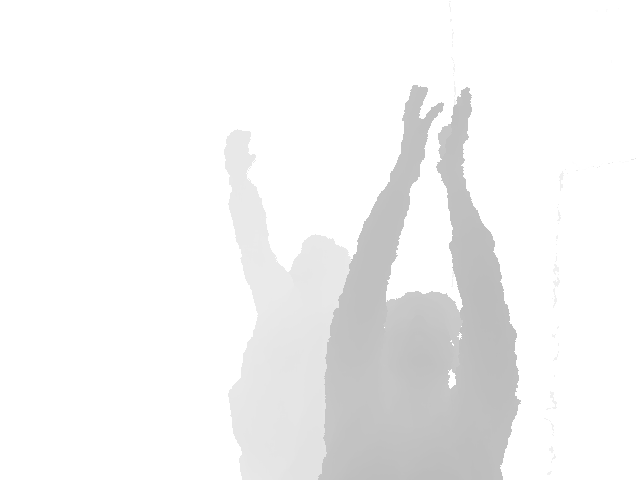hand: (400, 85, 444, 174), (437, 87, 470, 178), (223, 130, 257, 183)
head: (382, 290, 463, 406), (289, 233, 356, 320)
person: (316, 85, 522, 480), (223, 130, 354, 480)
